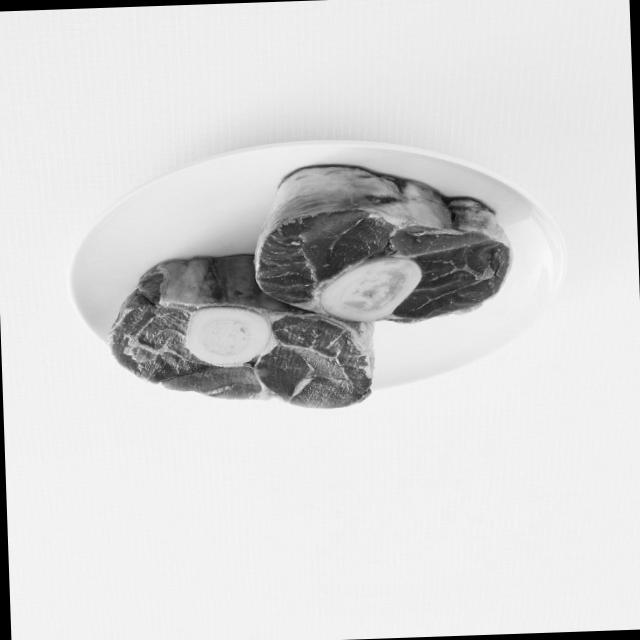ham hock: (104, 160, 512, 392)
